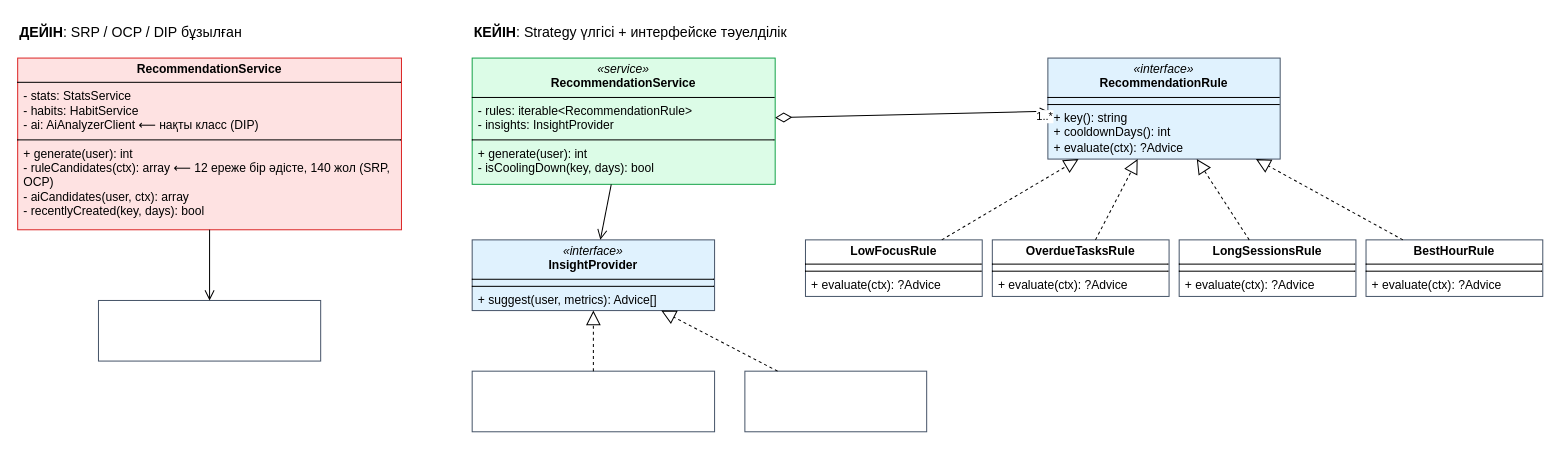
Some shapes in this 1560 by 449 pixel diagram are drawn without their labels. Here are the shapes that lost their labels. From the top down, the box of each, then its label:
(97, 299, 321, 361): AiAnalyzerClient + suggest(user, metrics): array
(471, 370, 715, 432): AiAnalyzerClient + suggest(user, metrics): Advice[]
(744, 370, 927, 432): NullInsightProvider + suggest(): [ ]
